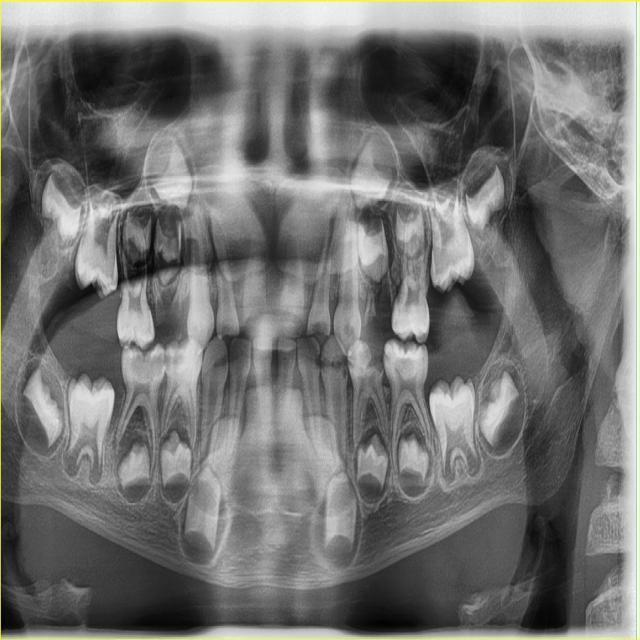72: (145, 270, 187, 331), (364, 286, 376, 322)
Sterngold Implant: (349, 338, 389, 381), (128, 349, 168, 383), (321, 353, 348, 378), (164, 347, 185, 375), (341, 321, 363, 344), (396, 353, 418, 375), (343, 352, 359, 372), (311, 319, 330, 335), (341, 323, 357, 339), (383, 349, 394, 367), (313, 349, 321, 370), (147, 315, 154, 336)
